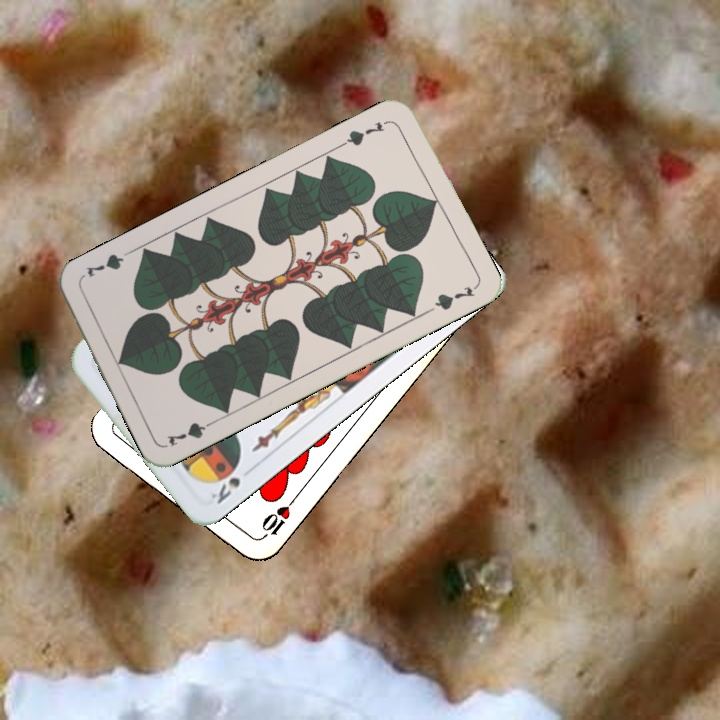G7: (162, 415, 219, 449), (337, 116, 392, 149)
H10: (255, 494, 298, 543)
SK: (206, 473, 243, 507)
